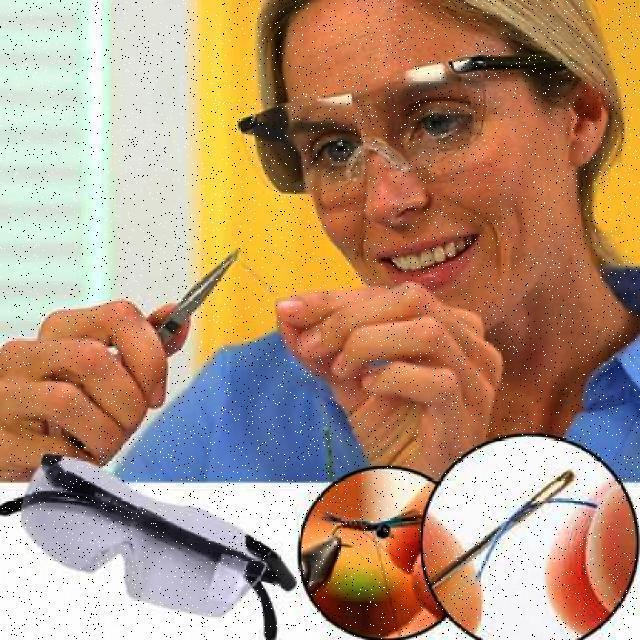Goggles: (231, 40, 588, 202), (1, 452, 297, 640)
